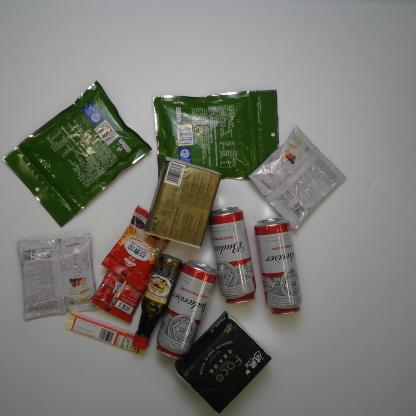Alcohol: (154, 259, 218, 361), (253, 216, 302, 316), (208, 206, 257, 304)
Chocolate: (63, 308, 146, 356)
Dried Fruit: (0, 78, 153, 229), (152, 89, 280, 183)
Instant Drink: (248, 125, 348, 232), (16, 232, 100, 320), (99, 205, 171, 293), (89, 268, 145, 325)
Seasoner: (131, 252, 184, 350)
Tissue: (174, 310, 273, 415), (144, 155, 222, 250)
